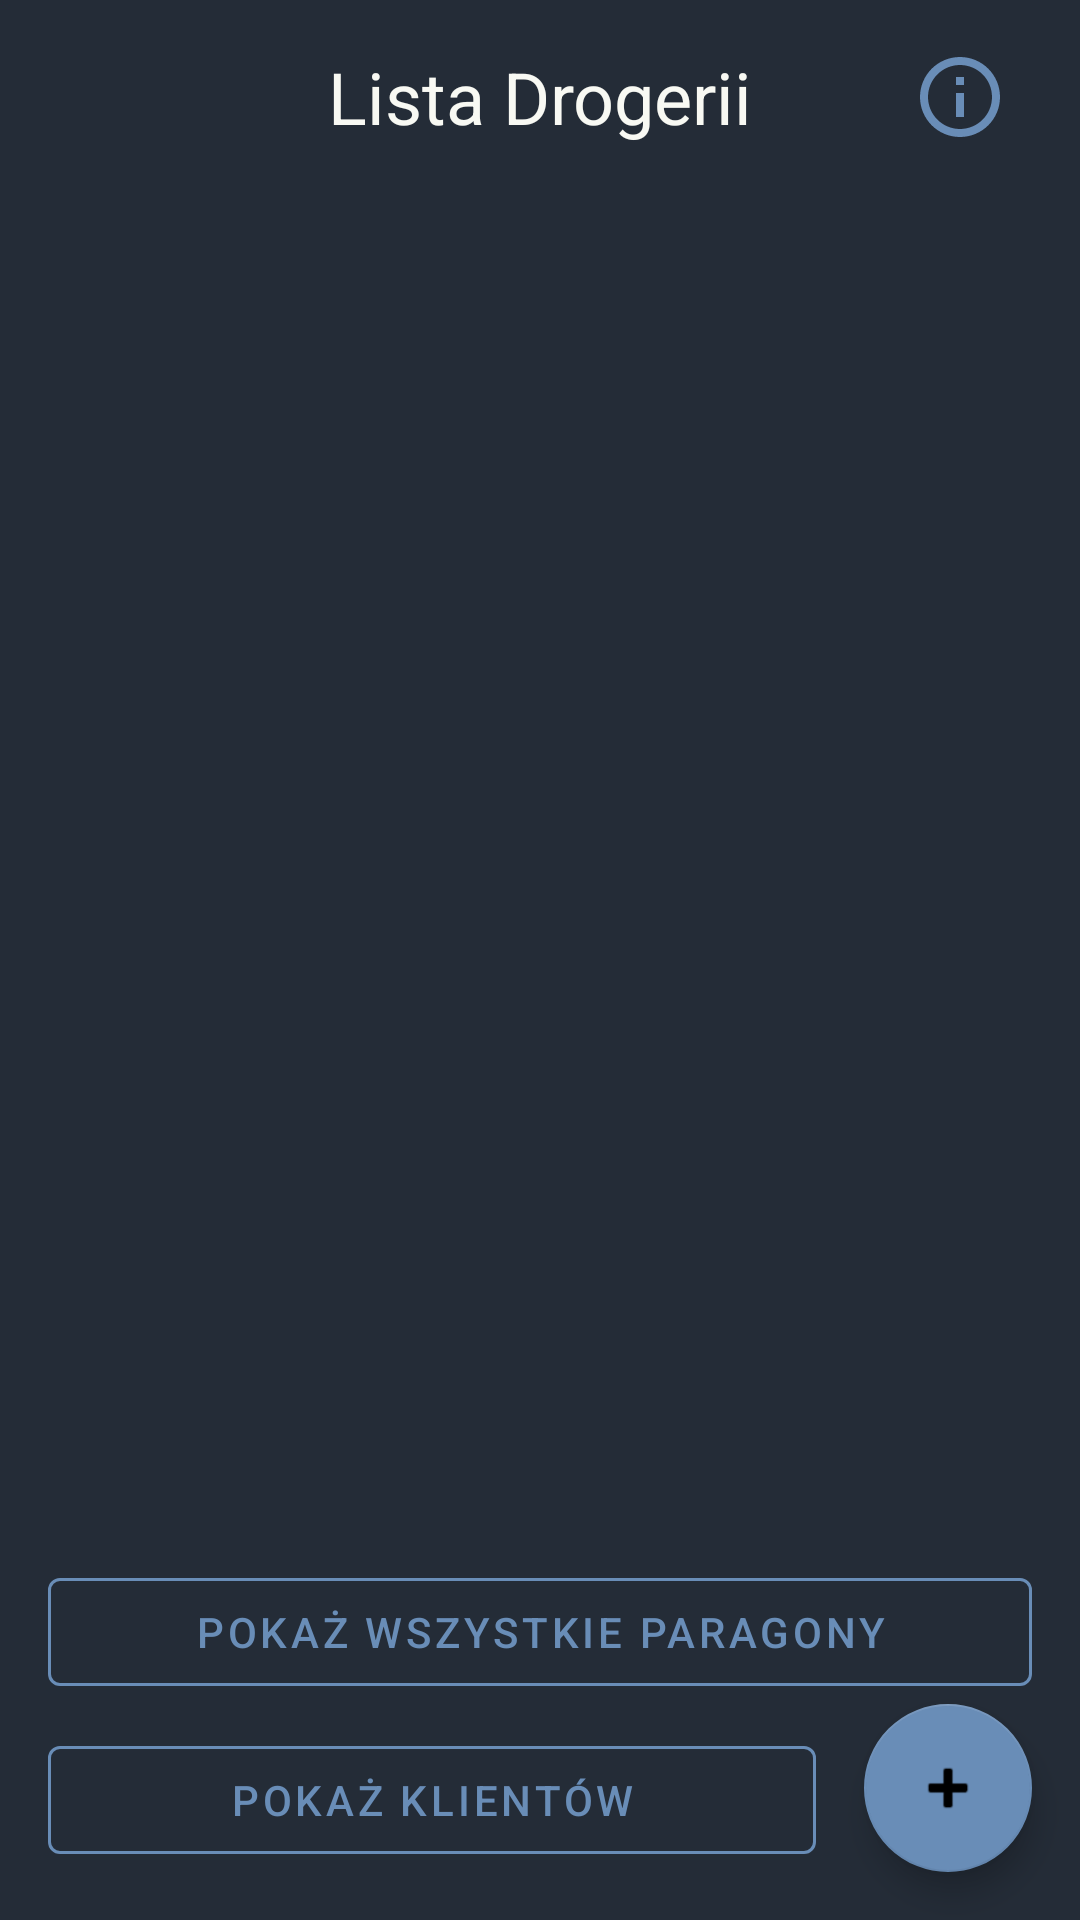

Named icons in this screenshot (1080px×1920px) and their centers, [x,y]:
Dodaj nowego klienta: [948,1788]
O aplikacji: [960,97]
